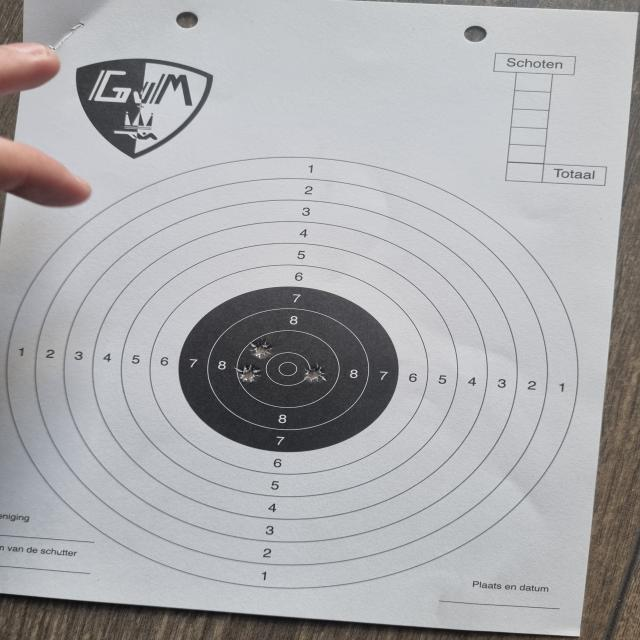10: (304, 364, 330, 384)
9: (232, 364, 262, 384), (248, 336, 274, 358)
Target: (4, 155, 580, 590)
black_contour: (178, 286, 400, 452)
